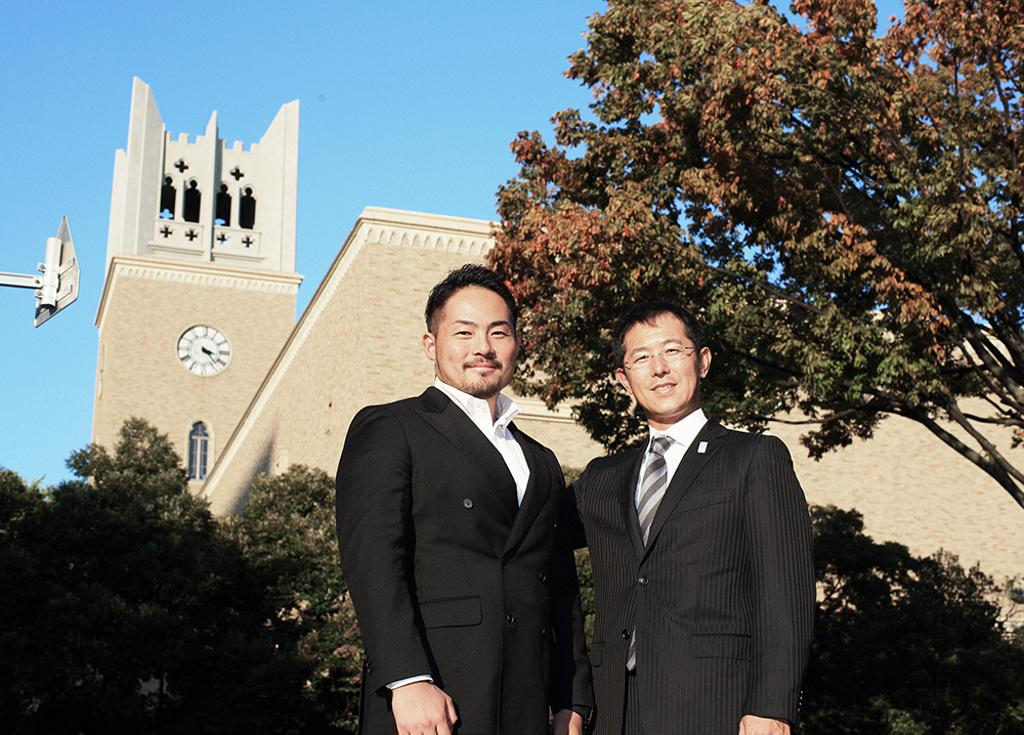face: (440, 274, 520, 398), (628, 316, 702, 414)
